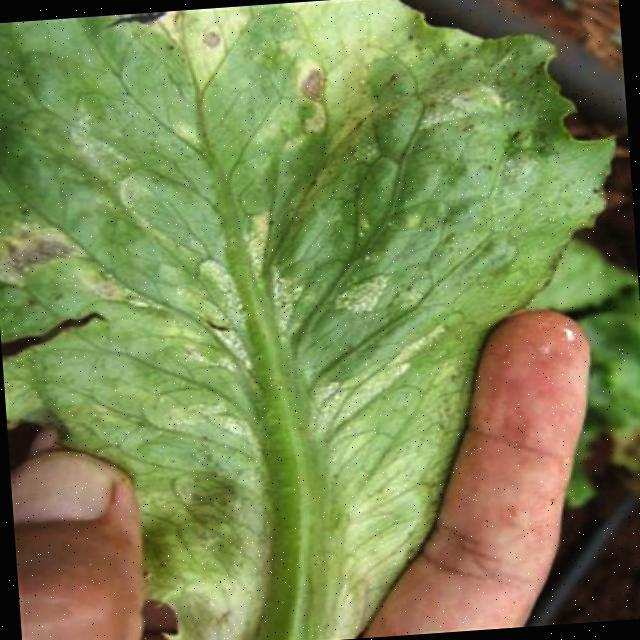Viral: (0, 0, 462, 435)
